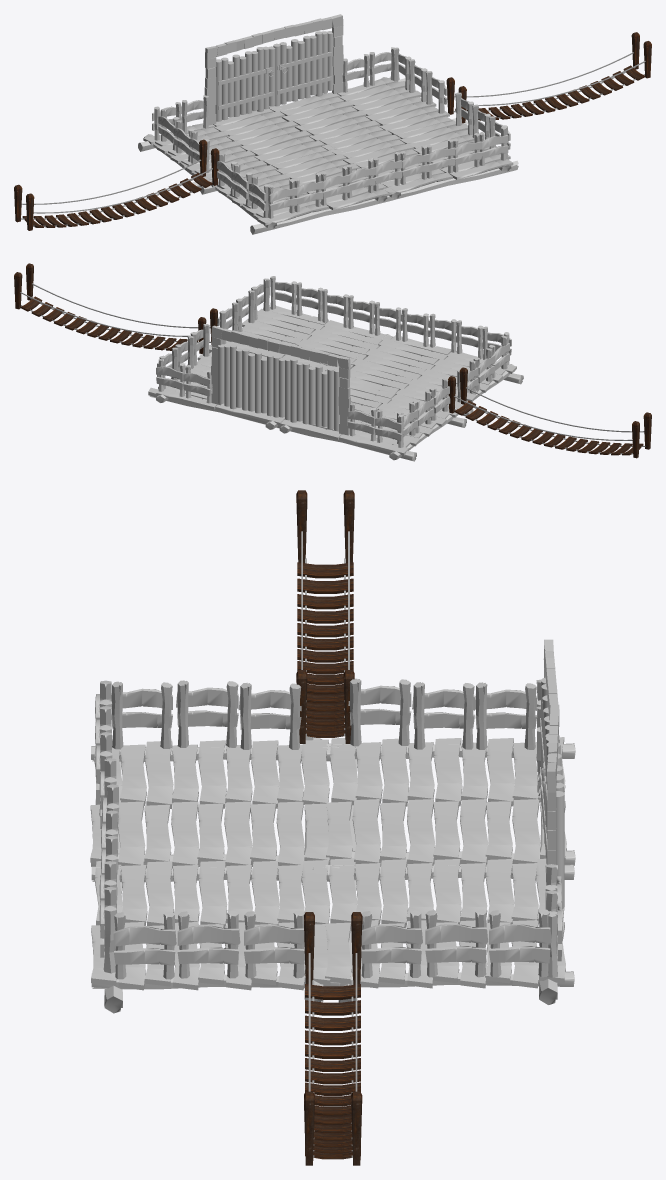
File: full set2.fbx
3 renders of one model, top to bottom at view 1: azimuth 30°, elevation 25°; view 2: azimuth 150°, elevation 25°; view 3: azimuth 270°, elevation 25°, orthographic. The views are drawn at different scales.
Visible parts, largest first — view 1: pasted__polySurface73, pasted__polySurface49, pasted__polySurface68, pasted__polySurface92, pasted__polySurface16, pasted__polySurface32, pasted__polySurface5, pasted__polySurface23, pasted__polySurface29, pasted__polySurface3, pasted__polySurface95, pasted__polySurface42 (+50 smaller); view 2: pasted__pCube25 (×2), pasted__pCube26 (×2), pasted__polySurface11, pasted__polySurface4, pasted__polySurface75, pasted__polySurface56, pasted__polySurface24, pasted__polySurface51, pasted__polySurface88, pasted__polySurface61, pasted__polySurface77, pasted__polySurface28 (+35 smaller); view 3: pasted__polySurface37, pasted__polySurface23, pasted__polySurface80, pasted__polySurface8, pasted__polySurface3, pasted__polySurface16, pasted__polySurface83, pasted__polySurface88, pasted__polySurface5, pasted__polySurface95, pasted__polySurface77, pasted__polySurface56 (+49 smaller).
Part boxes in pixels (<box>): pasted__polySurface73: <box>250,196,393,234</box>; pasted__polySurface49: <box>378,160,518,202</box>; pasted__polySurface68: <box>382,173,452,194</box>; pasted__polySurface92: <box>257,204,328,225</box>; pasted__polySurface16: <box>240,130,311,151</box>; pasted__polySurface32: <box>295,110,366,131</box>; pasted__polySurface5: <box>227,121,297,141</box>; pasted__polySurface23: <box>214,111,284,131</box>; pasted__polySurface29: <box>351,90,421,111</box>; pasted__polySurface3: <box>254,140,324,160</box>; pasted__polySurface95: <box>276,154,346,174</box>; pasted__polySurface42: <box>282,101,353,121</box>; pasted__pCube25 (×2): <box>20,292,632,440</box>; pasted__pCube26 (×2): <box>32,283,644,432</box>; pasted__polySurface11: <box>339,434,408,455</box>; pasted__polySurface4: <box>274,418,416,461</box>; pasted__polySurface75: <box>378,339,447,360</box>; pasted__polySurface56: <box>297,339,366,359</box>; pasted__polySurface24: <box>280,419,342,439</box>; pasted__polySurface51: <box>257,308,324,330</box>; pasted__polySurface88: <box>364,348,434,369</box>; pasted__polySurface61: <box>310,329,379,349</box>; pasted__polySurface77: <box>351,358,420,379</box>; pasted__polySurface28: <box>148,387,278,427</box>; pasted__polySurface37: <box>380,859,408,927</box>; pasted__polySurface23: <box>512,799,540,863</box>; pasted__polySurface80: <box>198,740,226,808</box>; pasted__polySurface8: <box>434,738,462,806</box>; pasted__polySurface3: <box>352,799,380,863</box>; pasted__polySurface16: <box>407,799,434,865</box>; pasted__polySurface83: <box>301,739,329,804</box>; pasted__polySurface88: <box>171,801,199,866</box>; pasted__polySurface5: <box>460,799,488,866</box>; pasted__polySurface95: <box>276,801,304,865</box>; pasted__polySurface77: <box>224,801,252,866</box>; pasted__polySurface56: <box>199,860,227,928</box>.
Size of the model in its own units: 6839 by 953 by 2312.
